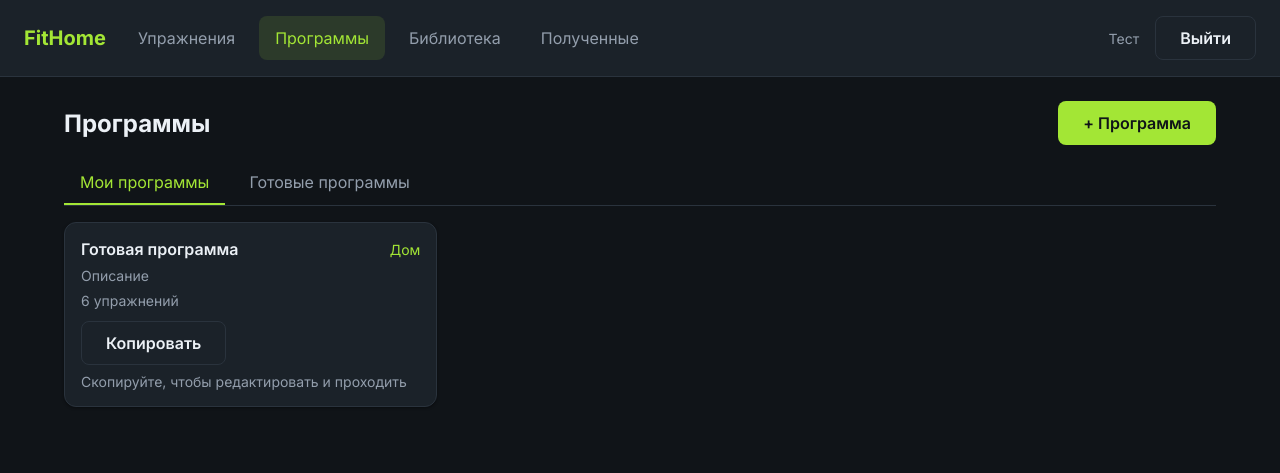
Test: ProgramsPage — готовые программы › копирование → POST /copy + уведомление + переключение на «Мои»
Click the tab "Готовые программы".
click(330, 183)  # box 233,161 -> 426,205
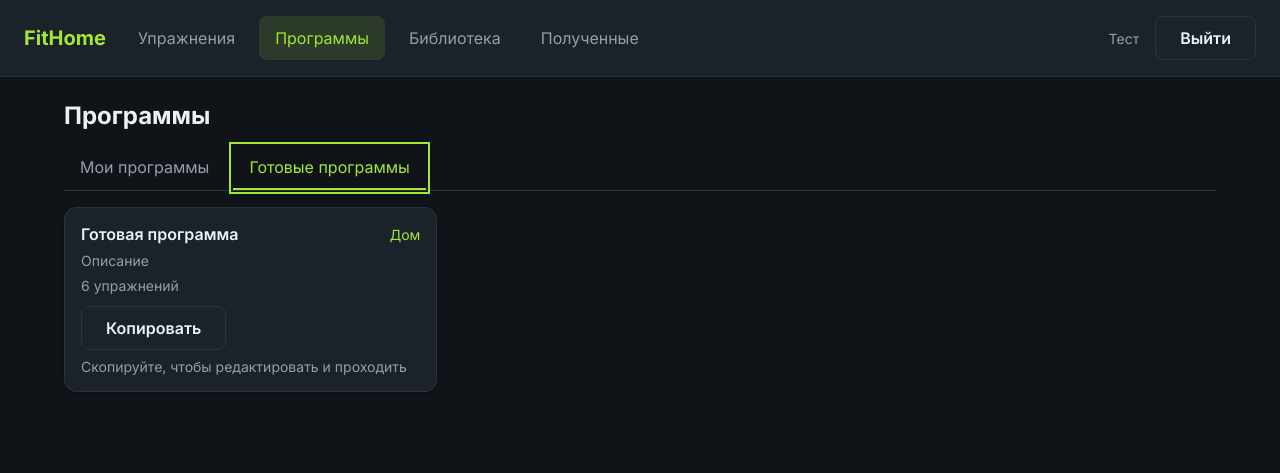
Click the button "Копировать".
click(154, 328)  # box 81,306 -> 226,350
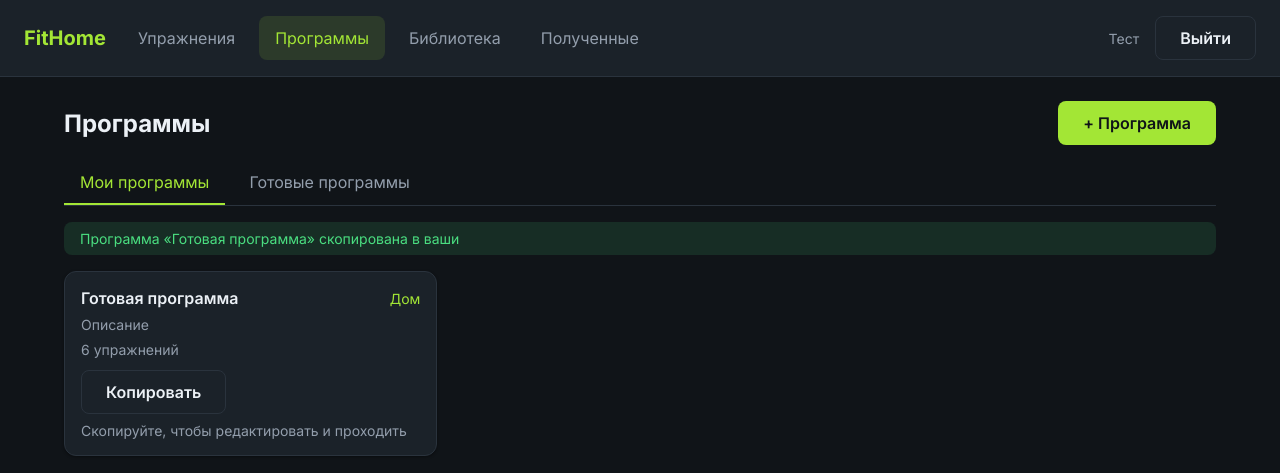
Now the text "Программа «Готовая программа» скопирована в ваши" is shown, box 64,222 -> 1216,255
